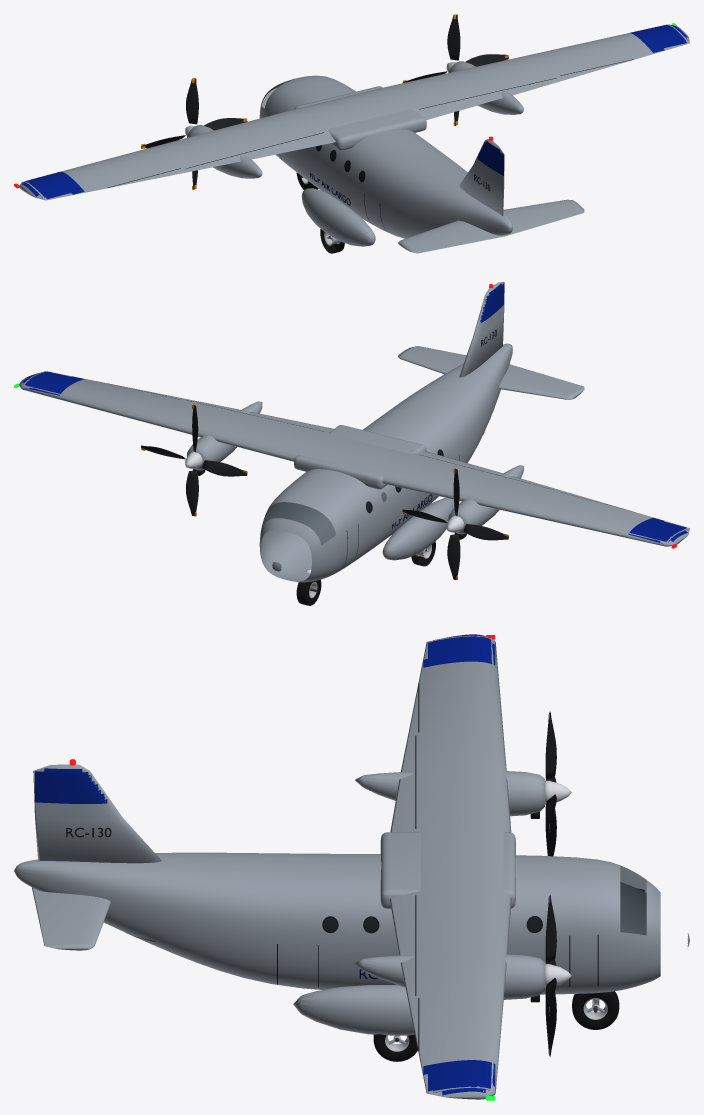
The model's file is CargoPlane.fbx.
3 renders of one model, top to bottom at view 1: azimuth 30°, elevation 25°; view 2: azimuth 150°, elevation 25°; view 3: azimuth 270°, elevation 25°, orthographic. The views are drawn at different scales.
Parts seen in each view (by area): view 1: CargoPlane_Body, CargoPlane_Spin1, CargoPlane_Spin2, CargoPlane_Trim; view 2: CargoPlane_Body, CargoPlane_Spin1, CargoPlane_Spin2, CargoPlane_Glass, CargoPlane_Trim, CargoPlane_Wheel1; view 3: CargoPlane_Body, CargoPlane_Glass, CargoPlane_Trim, CargoPlane_Spin2, CargoPlane_Spin1, CargoPlane_Wheel1, CargoPlane_Wheel3.
Part boxes in pixels (box(x1,y1,x2,y2)): CargoPlane_Body: box(19, 24, 689, 253); CargoPlane_Spin1: box(141, 78, 247, 189); CargoPlane_Spin2: box(402, 14, 508, 125); CargoPlane_Trim: box(107, 59, 633, 238); CargoPlane_Body: box(19, 282, 689, 582); CargoPlane_Spin1: box(402, 468, 508, 579); CargoPlane_Spin2: box(141, 404, 247, 516); CargoPlane_Glass: box(262, 451, 442, 544); CargoPlane_Trim: box(108, 330, 631, 591); CargoPlane_Wheel1: box(296, 579, 321, 605); CargoPlane_Body: box(14, 634, 689, 1099); CargoPlane_Glass: box(324, 865, 646, 935); CargoPlane_Trim: box(66, 683, 599, 1051); CargoPlane_Spin2: box(545, 895, 571, 1056); CargoPlane_Spin1: box(545, 711, 571, 856); CargoPlane_Wheel1: box(572, 991, 619, 1029); CargoPlane_Wheel3: box(373, 1034, 417, 1061).
Bounding box in the file's own units: 69.7 × 18.75 × 43.02.
